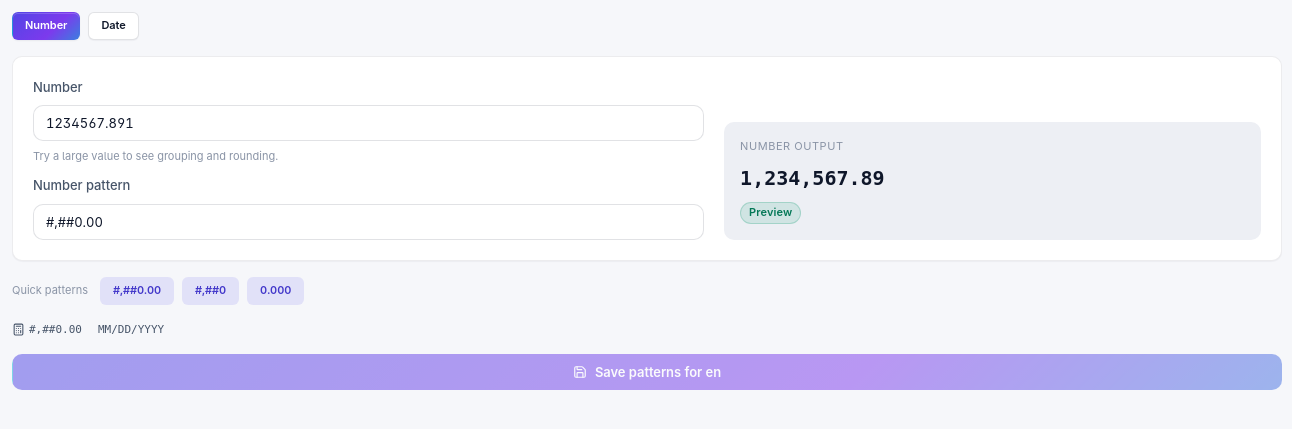
it: FormatPlayground › surfaces invalid patterns and blocks saving
Replace the text in the field labelled "Number pattern" with "not-a-pattern": coordinates (369, 222) [33, 204, 704, 240]
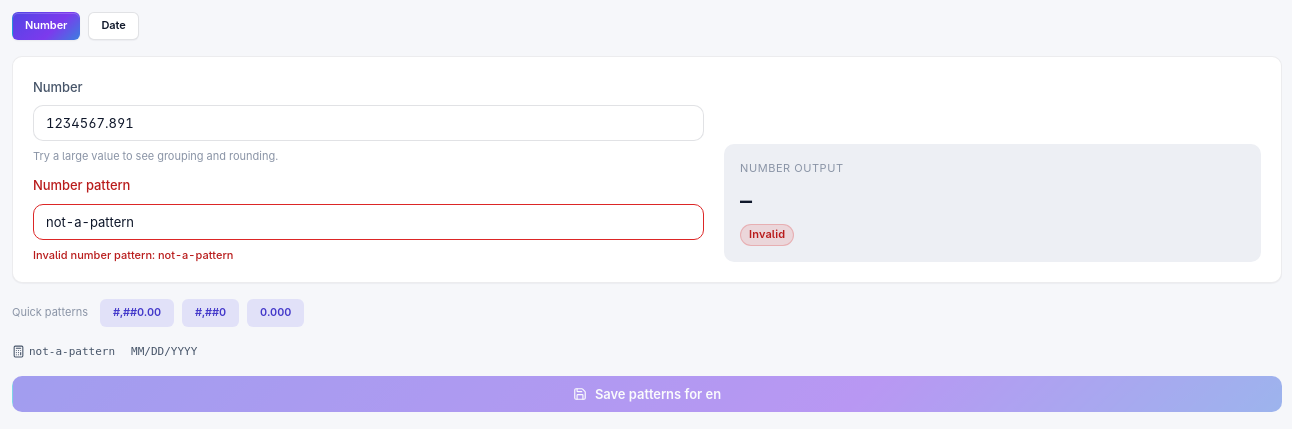
Expected: the button "Save patterns for en" is disabled, [12, 376, 1282, 412]
Now the message "Invalid number pattern: not-a-pattern" is shown, box [33, 248, 234, 262]
